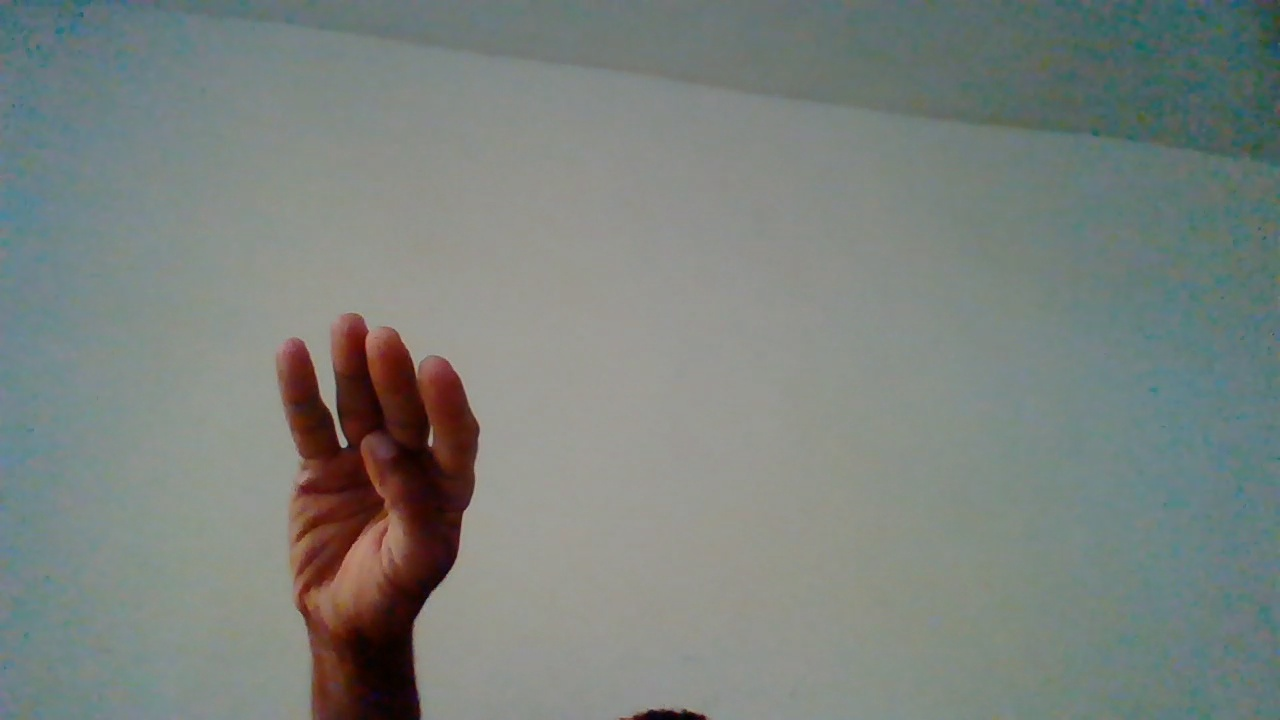me: (273, 314, 479, 716)
